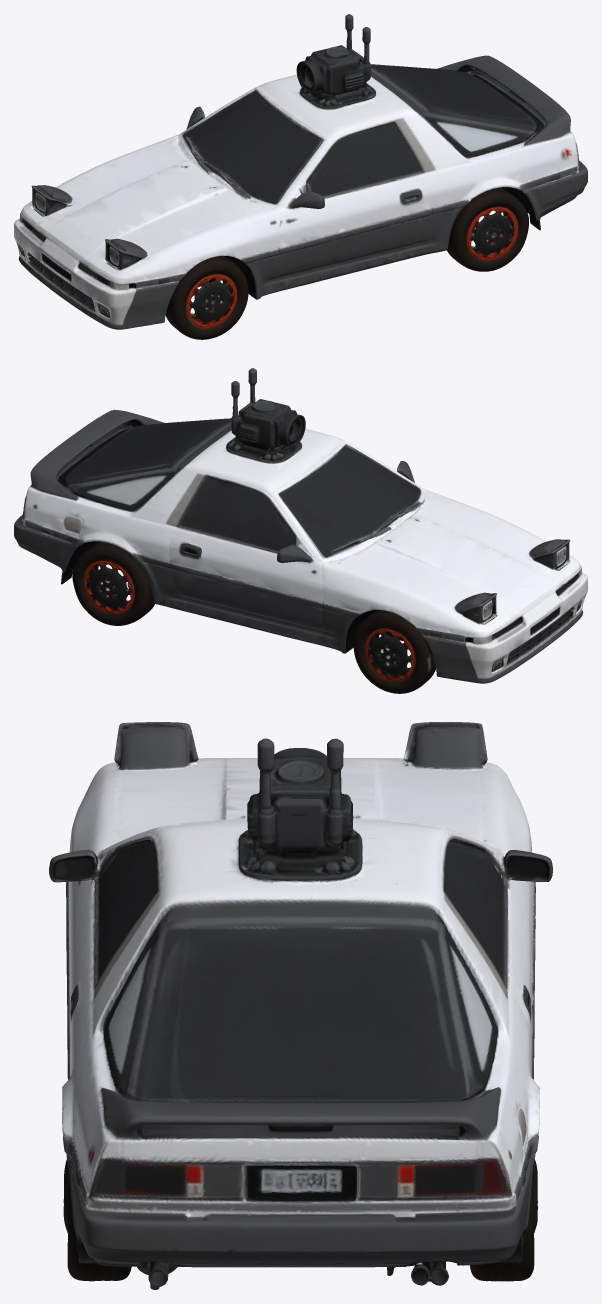
File: meshy-scale-10.web.glb
3 renders of one model, top to bottom at view 1: azimuth 30°, elevation 25°; view 2: azimuth 150°, elevation 25°; view 3: azimuth 270°, elevation 25°, orthographic. The views are drawn at different scales.
Bounding box in the file's own units: 2 × 0.9002 × 0.8983.
Materials: 1 (1 with a texture image).
